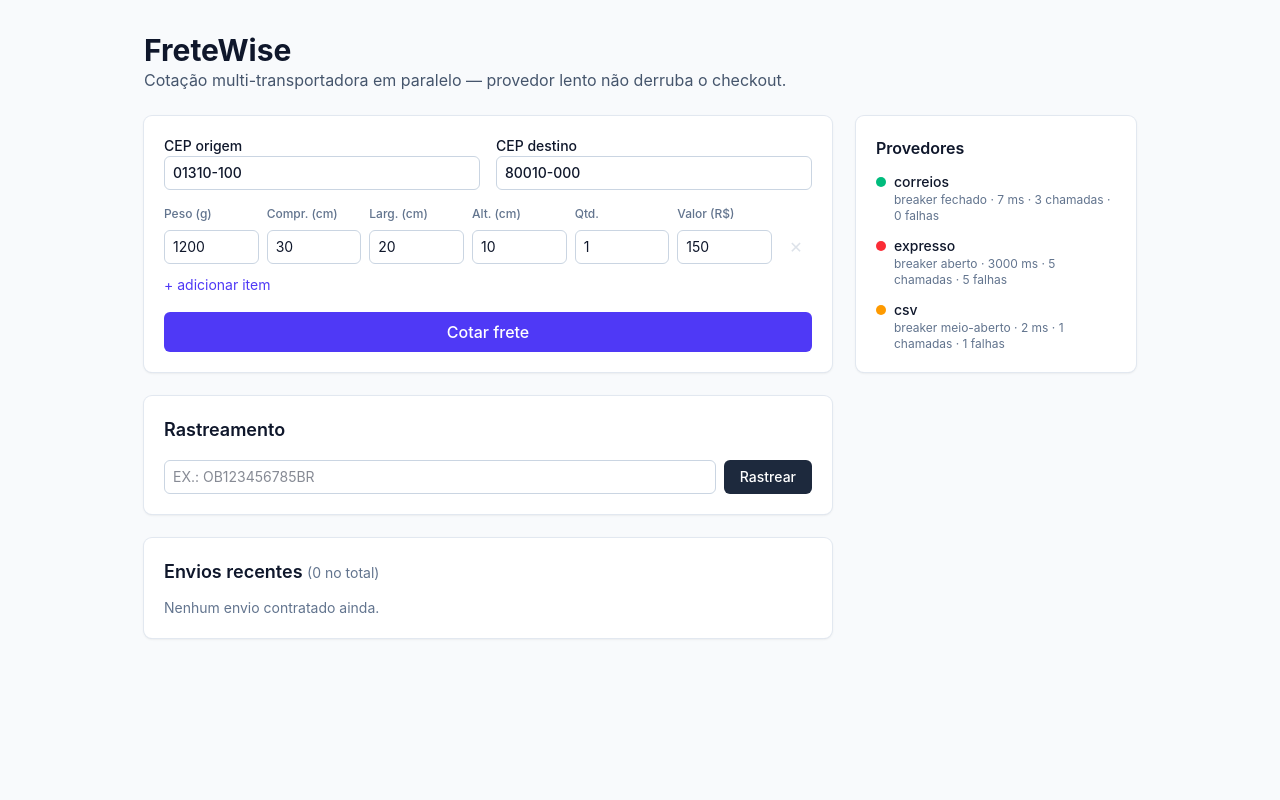
Test: <App /> › mostra erro de validação vindo da API
The image size is (1280, 800).
What coordinates should you click on to do the following:
click the button "Cotar frete"
I would click on:
 (488, 332)
Its box is [164,312,812,352].
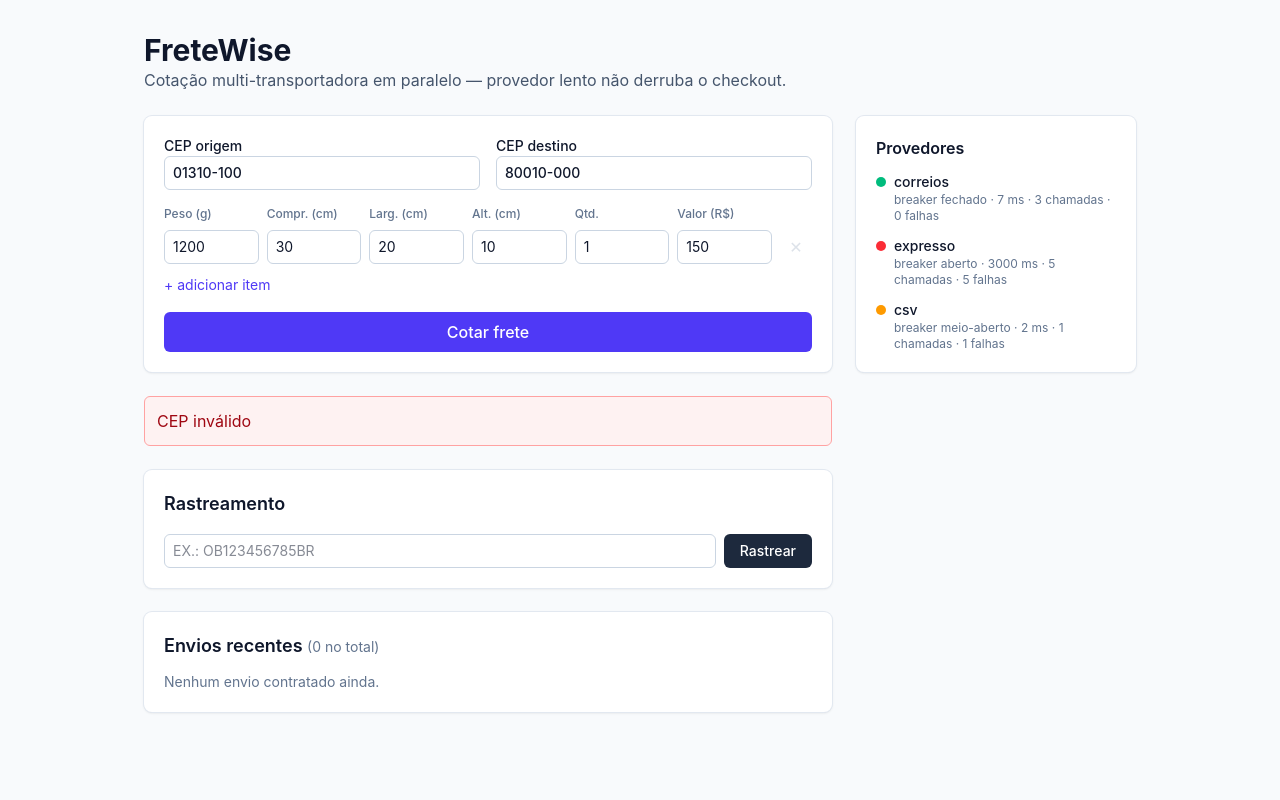
Now the text "CEP inválido" is shown, box [144,396,832,446]
